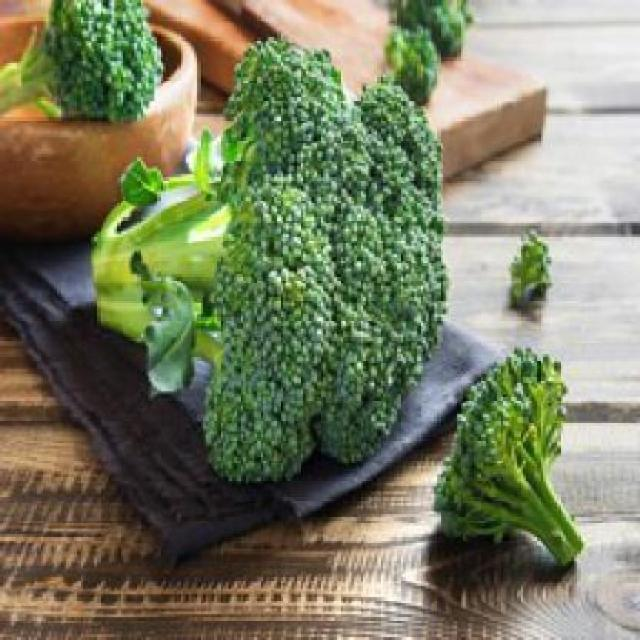broccoli: (77, 52, 446, 474)
